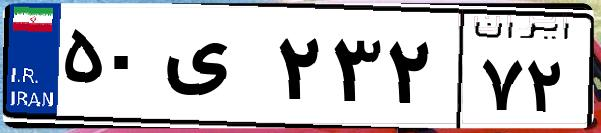0: (110, 28, 158, 98)
2: (270, 28, 330, 110), (385, 28, 445, 110), (525, 38, 570, 115)
3: (330, 28, 385, 110)
5: (57, 26, 110, 100)
7: (475, 38, 525, 113)
ی: (158, 20, 270, 120)
